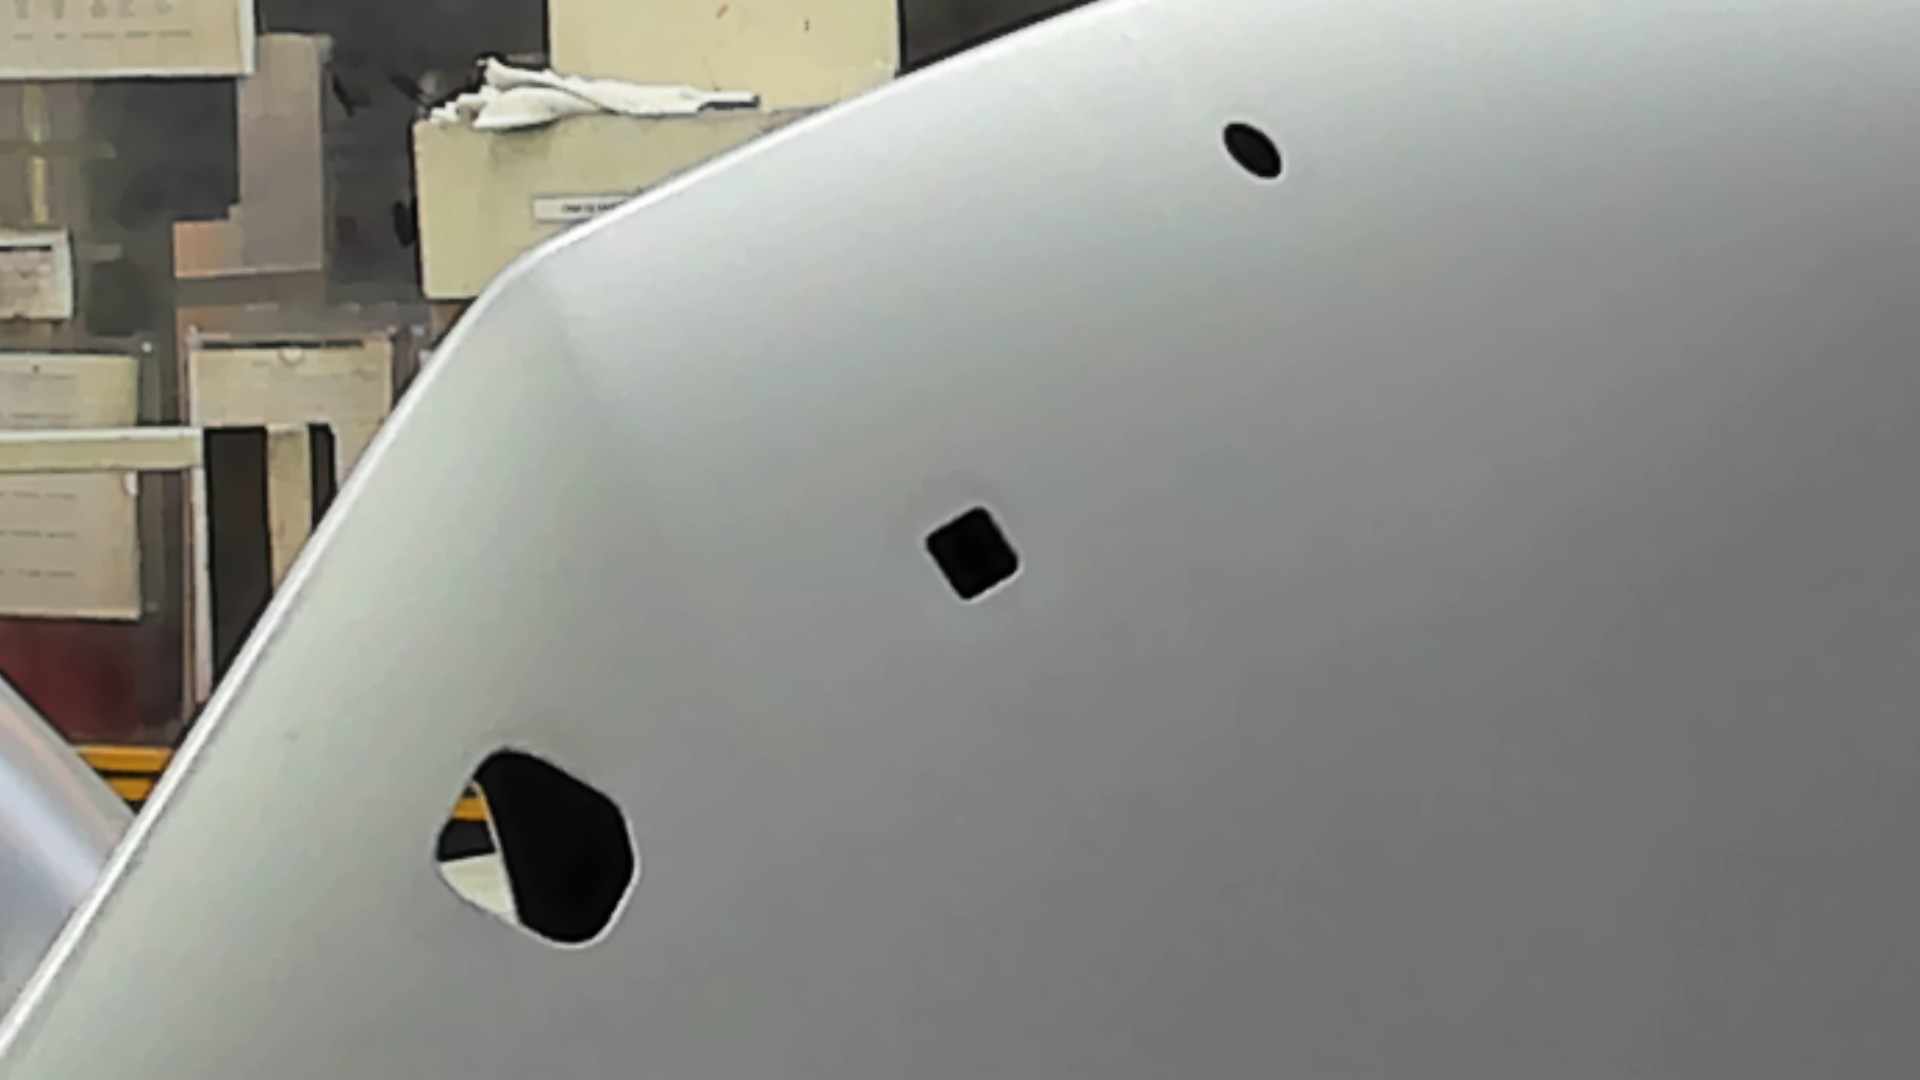chico: (1218, 117, 1286, 183)
grande: (430, 745, 647, 965)
mediano: (916, 501, 1029, 607)
